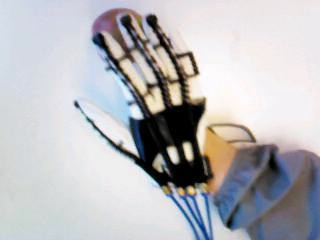apple: (90, 4, 147, 56)
hand: (71, 13, 212, 197)
